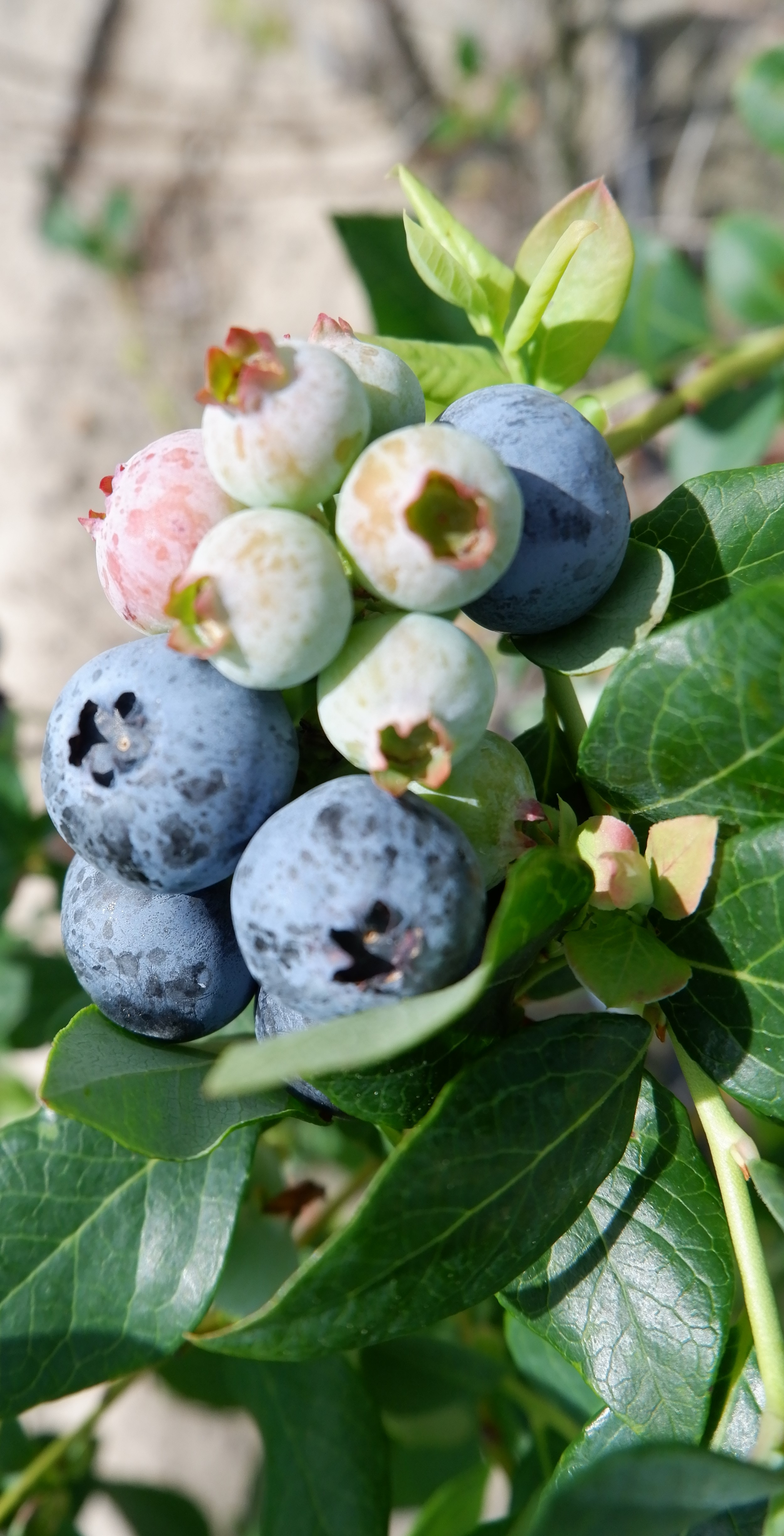Immature: (340, 426, 516, 606), (89, 430, 236, 628), (321, 617, 489, 786), (185, 514, 347, 686), (203, 345, 366, 505), (427, 744, 546, 878), (305, 316, 419, 438), (207, 326, 273, 394)
Mature: (42, 638, 291, 887), (235, 781, 487, 1020), (446, 389, 625, 627), (63, 863, 248, 1041), (253, 992, 357, 1120)
